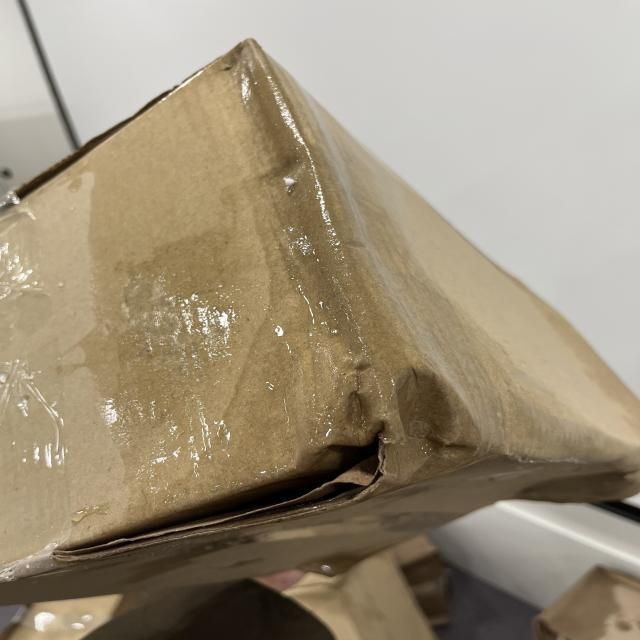wet: (74, 82, 639, 554)
